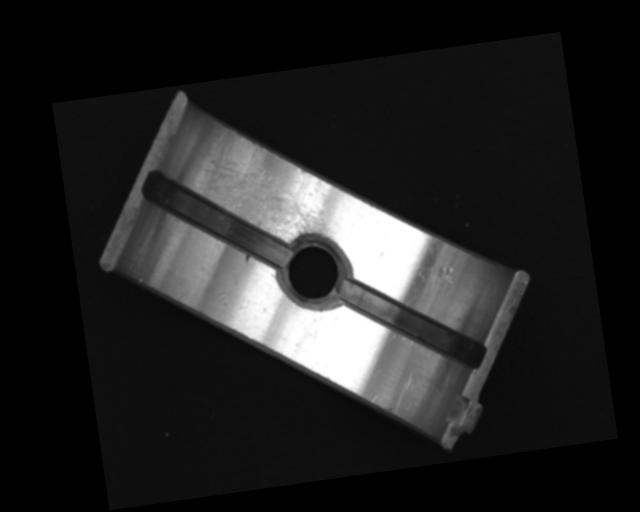bruise: (434, 263, 456, 286), (243, 251, 253, 265)
gap: (139, 154, 294, 284), (340, 263, 486, 384)
hole: (273, 232, 356, 316)
scratch: (192, 117, 340, 264)
